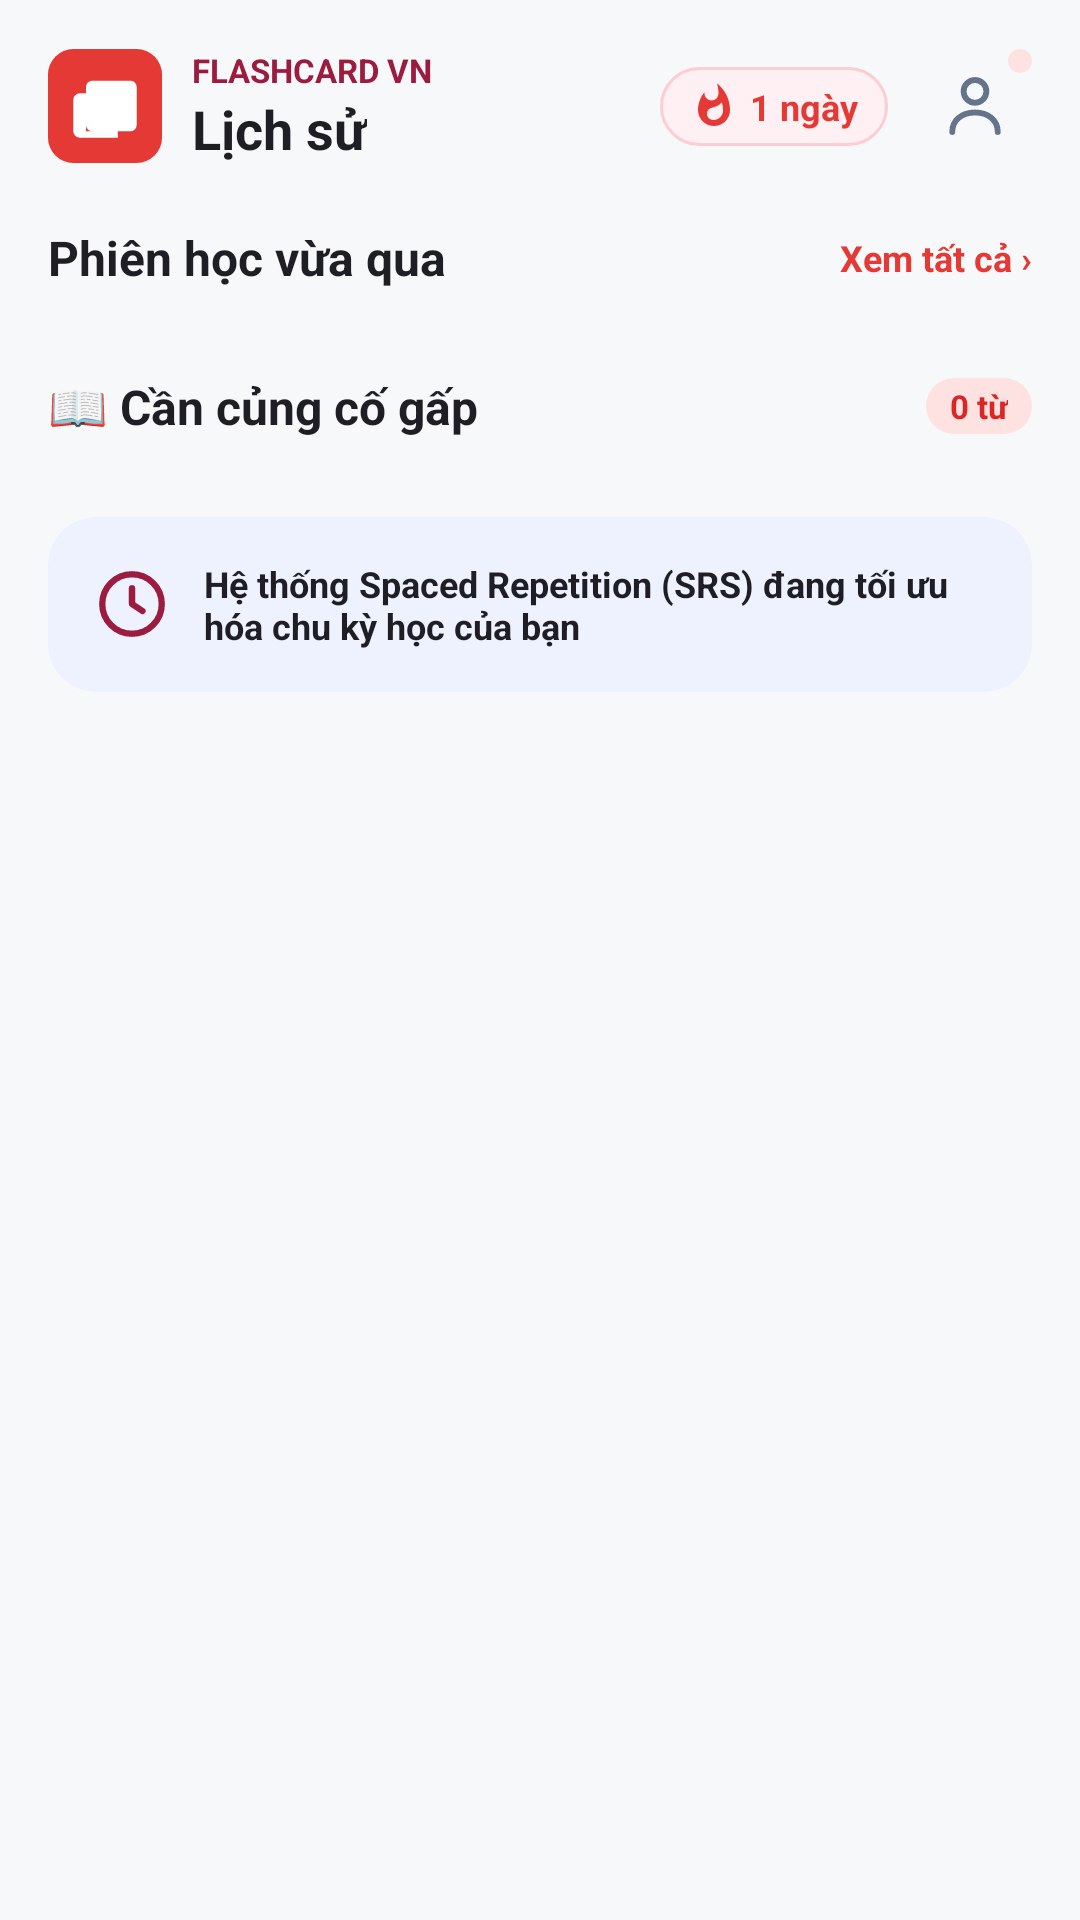

Named icons in this screenshot (1080 × 1920) and their centers, (x,y):
fire: (714,104)
history: (132,604)
profile: (975,106)
